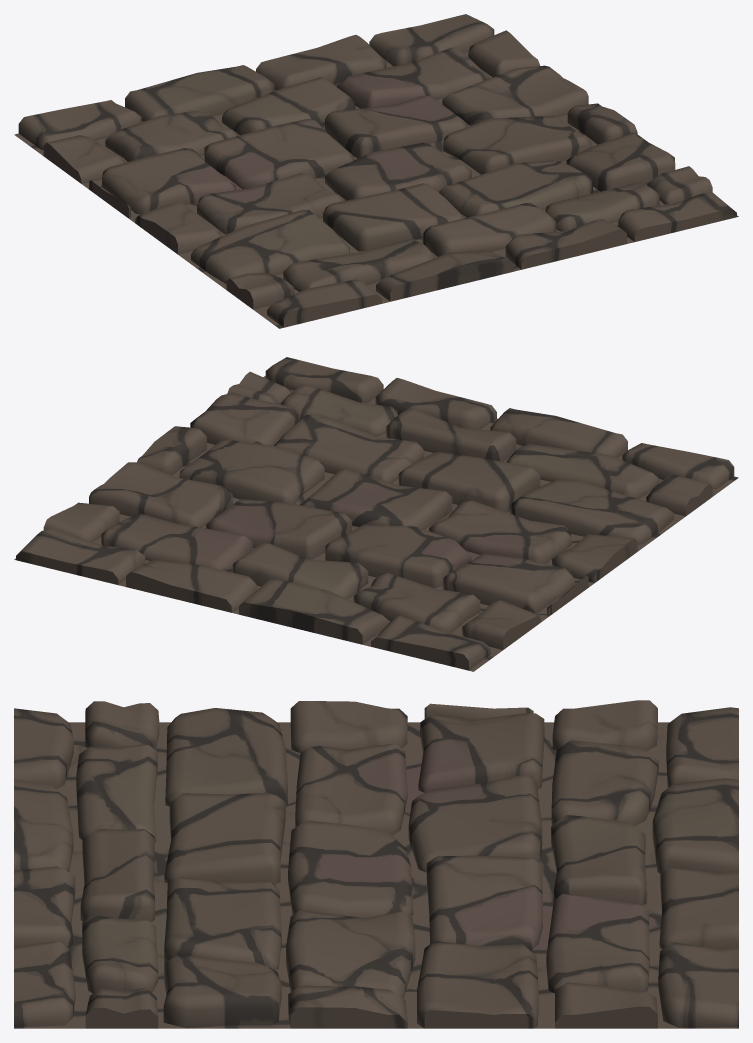
The model's file is WB_floor.fbx.
3 views of the same model, one above another, from view 1: azimuth 30°, elevation 25°; view 2: azimuth 150°, elevation 25°; view 3: azimuth 270°, elevation 25° (orthographic). The views are drawn at different scales.
Parts seen in each view (by area): view 1: WB_floor; view 2: WB_floor; view 3: WB_floor.
Part boxes in pixels (x1,y1,x2,y2): WB_floor: (14, 14, 738, 328); WB_floor: (14, 357, 738, 671); WB_floor: (14, 700, 738, 1028).
Bounding box in the file's own units: 100 × 3.82 × 100.
